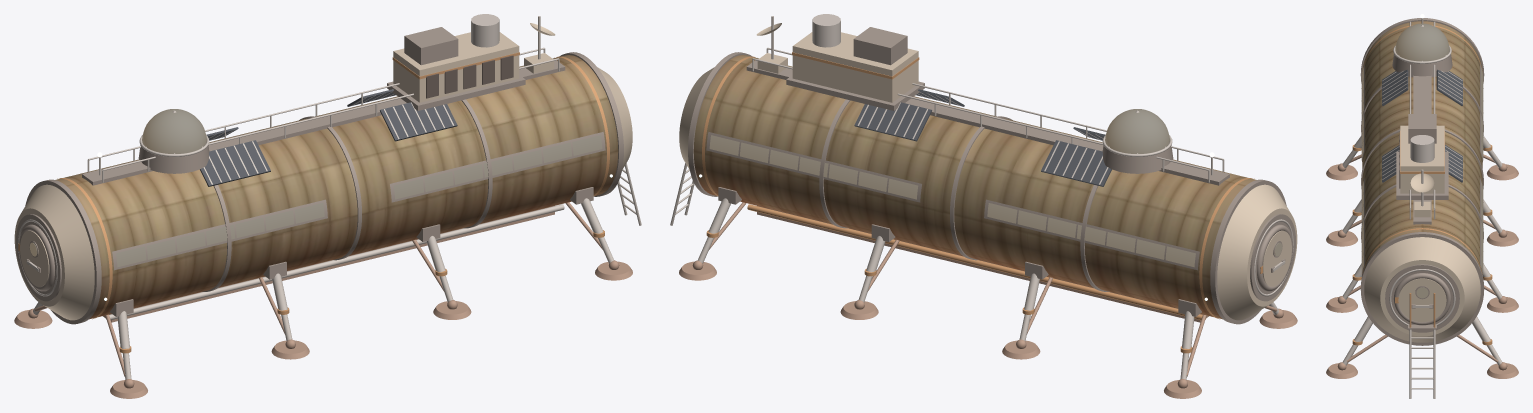
File: W03_tube_habitat_long_roof_module.glb
The picture shows the model from 3 angles, left to right: view 1: azimuth 30°, elevation 25°; view 2: azimuth 150°, elevation 25°; view 3: azimuth 270°, elevation 25°; orthographic projection. The views are drawn at different scales.
Parts seen in each view (by area): view 1: hull, joint_ring, endcone, hatch_light_ring, hatch_porthole, leg_brace; view 2: hull, joint_ring, endcone, hatch_porthole, hatch_light_ring, leg_brace; view 3: hull, joint_ring, endcone, hatch_light_ring, leg_brace, hatch_porthole, antenna_dish.
Part boxes in pixels (x1,y1,x2,y2): hull: (55,55,618,319); joint_ring: (16,27,623,324); endcone: (14,32,632,353); hatch_light_ring: (18,14,641,379); hatch_porthole: (29,109,602,267); leg_brace: (14,202,632,398); hull: (693,55,1256,319); joint_ring: (688,27,1295,324); endcone: (679,32,1297,353); hatch_porthole: (709,109,1282,267); hatch_light_ring: (670,14,1293,379); leg_brace: (679,202,1297,398); hull: (1362,21,1482,274); joint_ring: (1360,18,1484,345); endcone: (1352,25,1492,345); hatch_light_ring: (1342,18,1502,398); leg_brace: (1326,154,1518,378); hatch_porthole: (1361,23,1483,298); antenna_dish: (1410,173,1434,192).
Size of the model in its own units: 14.52 by 5.47 by 4.8.
9 materials, 1 textured.
